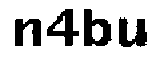4: (47, 6, 81, 51)
b: (82, 5, 113, 51)
n: (9, 16, 43, 48)
u: (116, 13, 149, 53)
